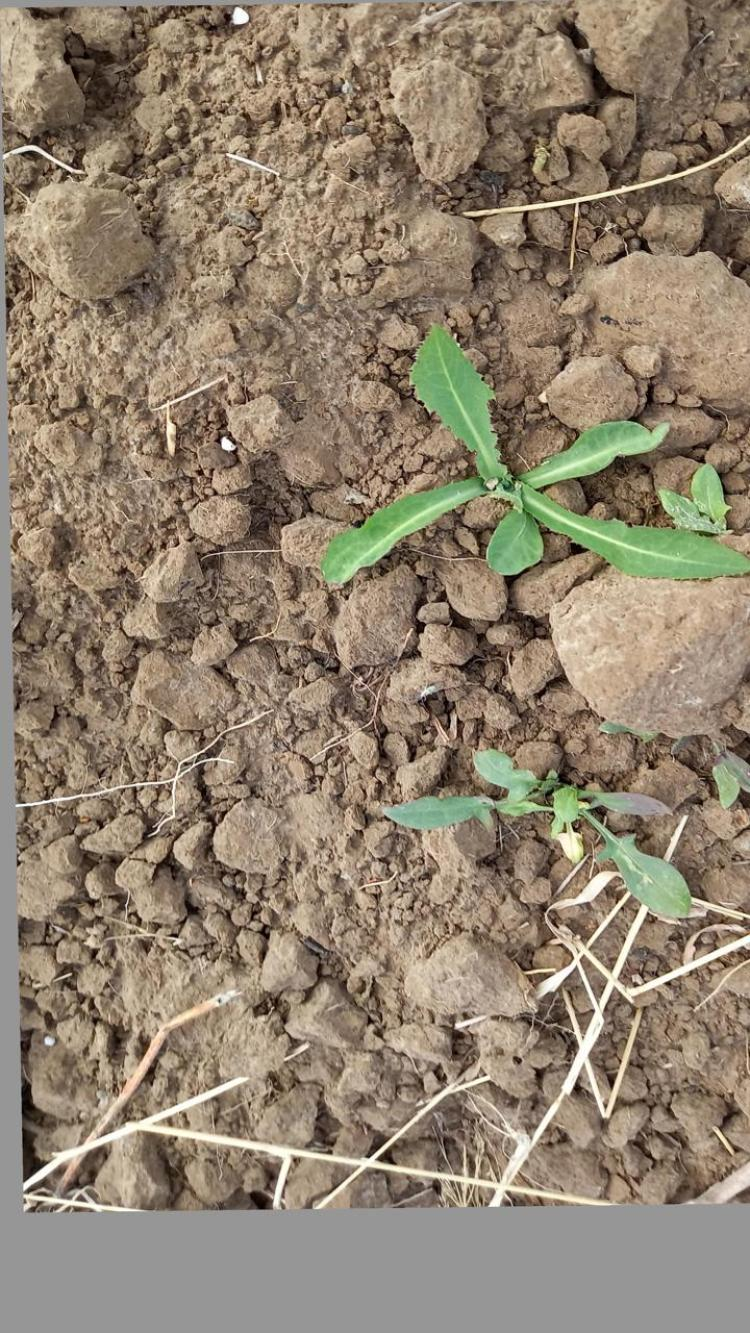osot: (302, 319, 750, 648)
